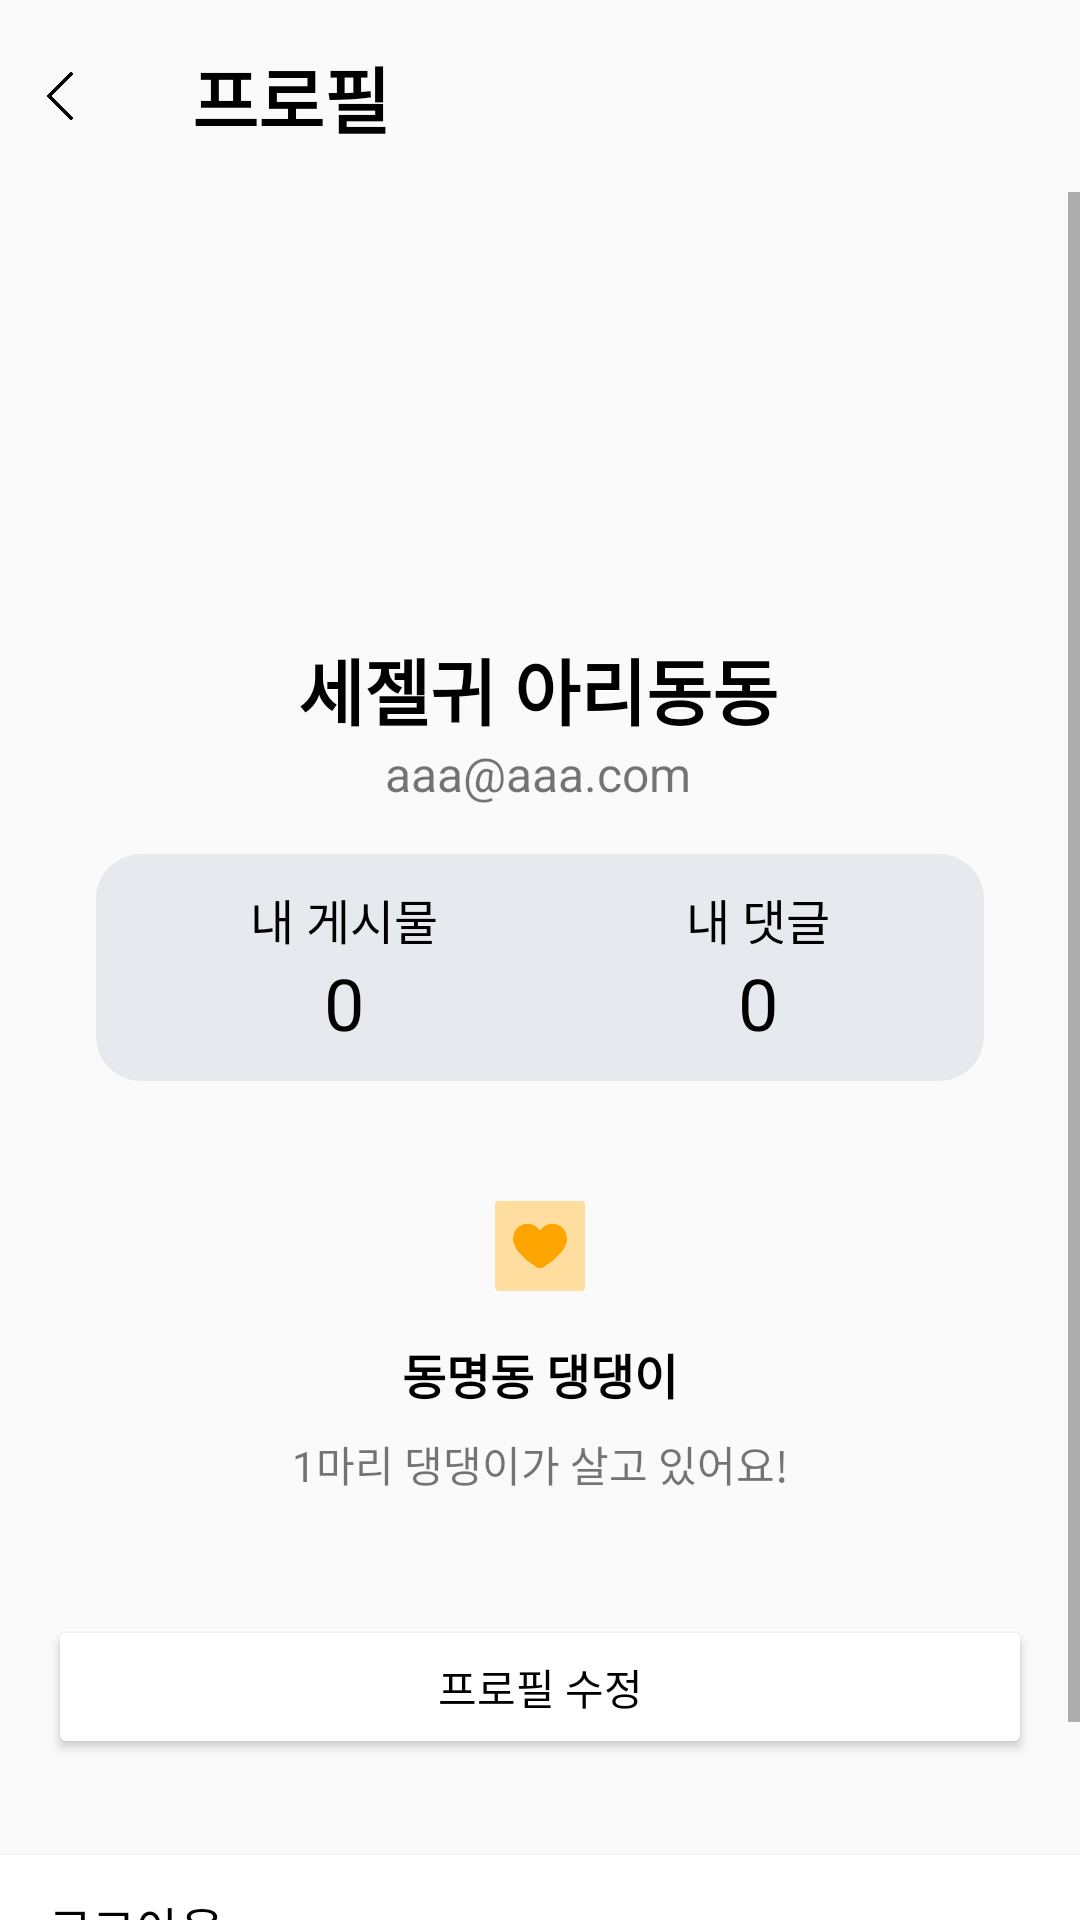

Icons on this 1080px×1920px Android screen, each with the point to tap as point (x, y):
back: point (60, 96)
orangeheart: point (540, 1246)
